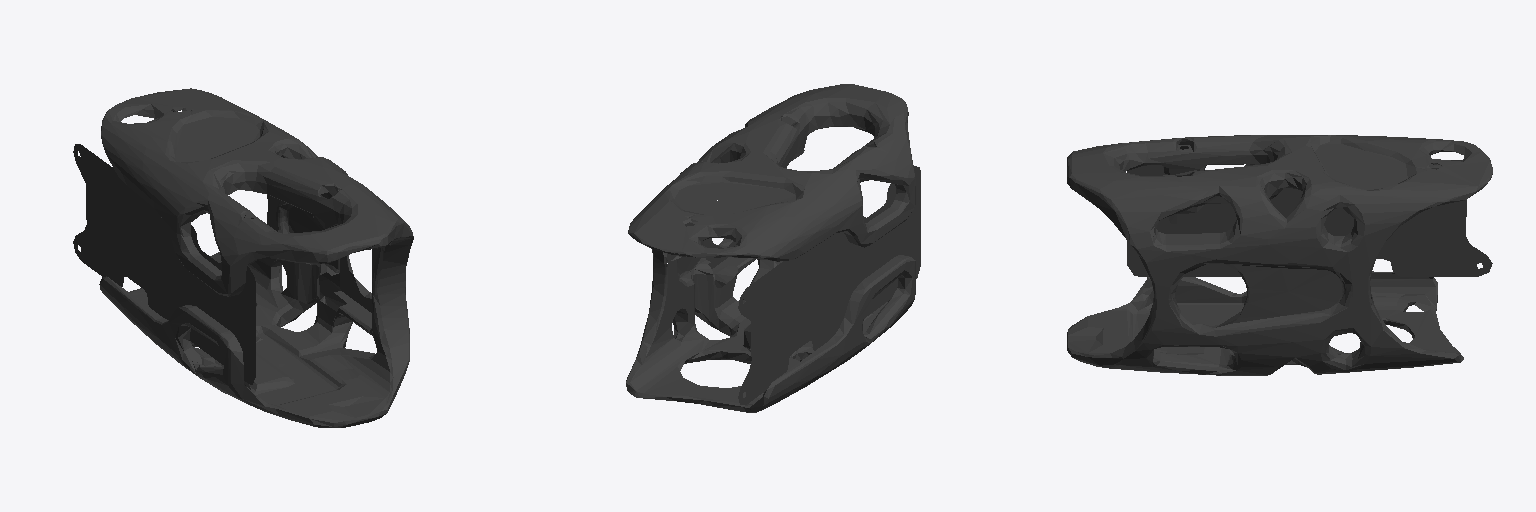
Rendered from wristYawRight_1.obj.
3 views of the same model, side by side, from view 1: azimuth 30°, elevation 25°; view 2: azimuth 150°, elevation 25°; view 3: azimuth 270°, elevation 25° (orthographic).
Size of the model in its own units: 0.0725 by 0.0761 by 0.1523.